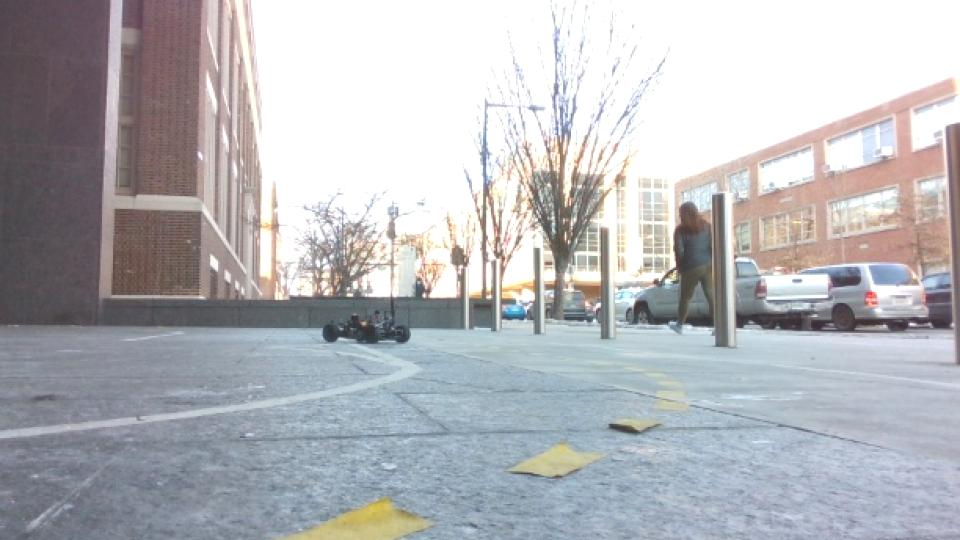car: (318, 308, 412, 347)
